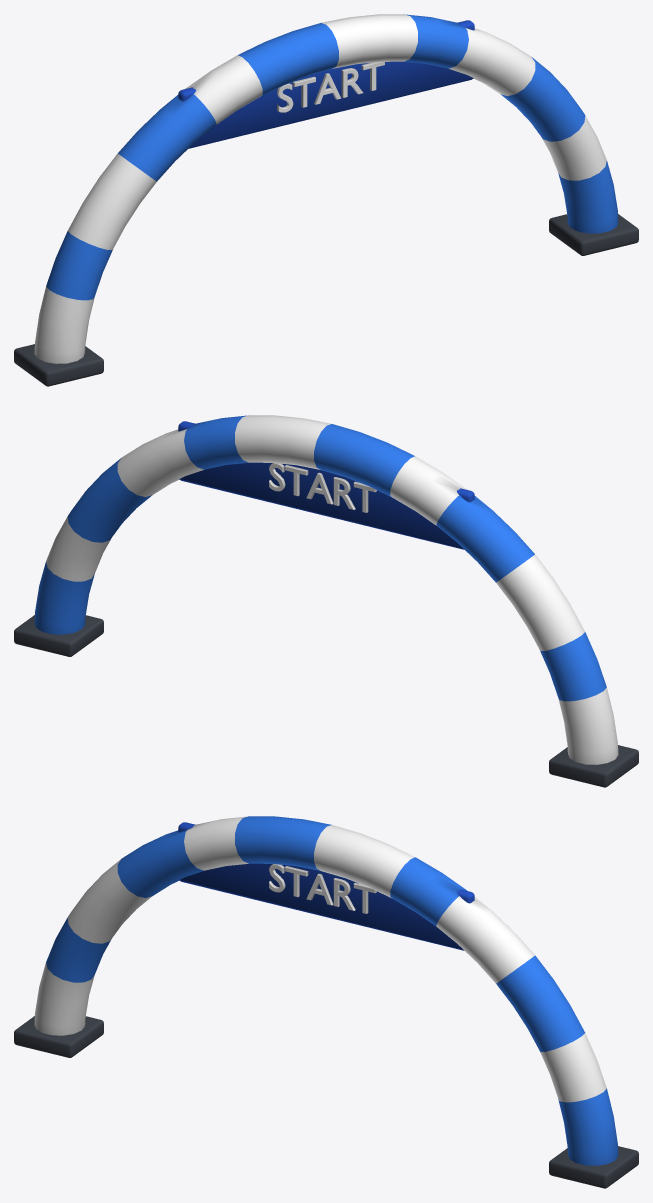
File: bl_gate_start.glb
3 views of the same model, one above another, from view 1: azimuth 30°, elevation 25°; view 2: azimuth 150°, elevation 25°; view 3: azimuth 330°, elevation 25° (orthographic).
Visible parts, largest first — view 1: gate_start; view 2: gate_start; view 3: gate_start.
Part boxes in pixels (x1,y1,x2,y2): gate_start: (14,14,638,386); gate_start: (14,415,638,787); gate_start: (14,816,638,1188).
Bounding box in the file's own units: 16.2 × 7.27 × 1.6.
